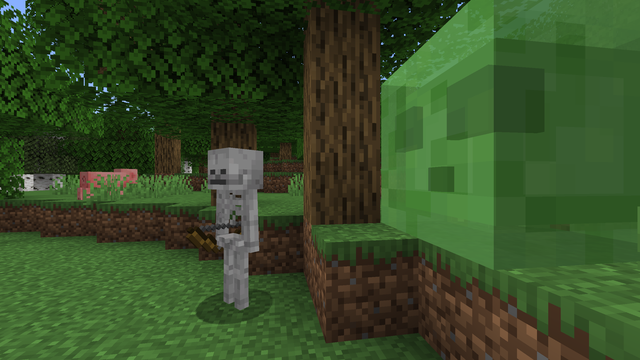cochons: (77, 170, 126, 199)
slimes: (376, 9, 634, 273)
squelettes: (205, 148, 260, 317)
